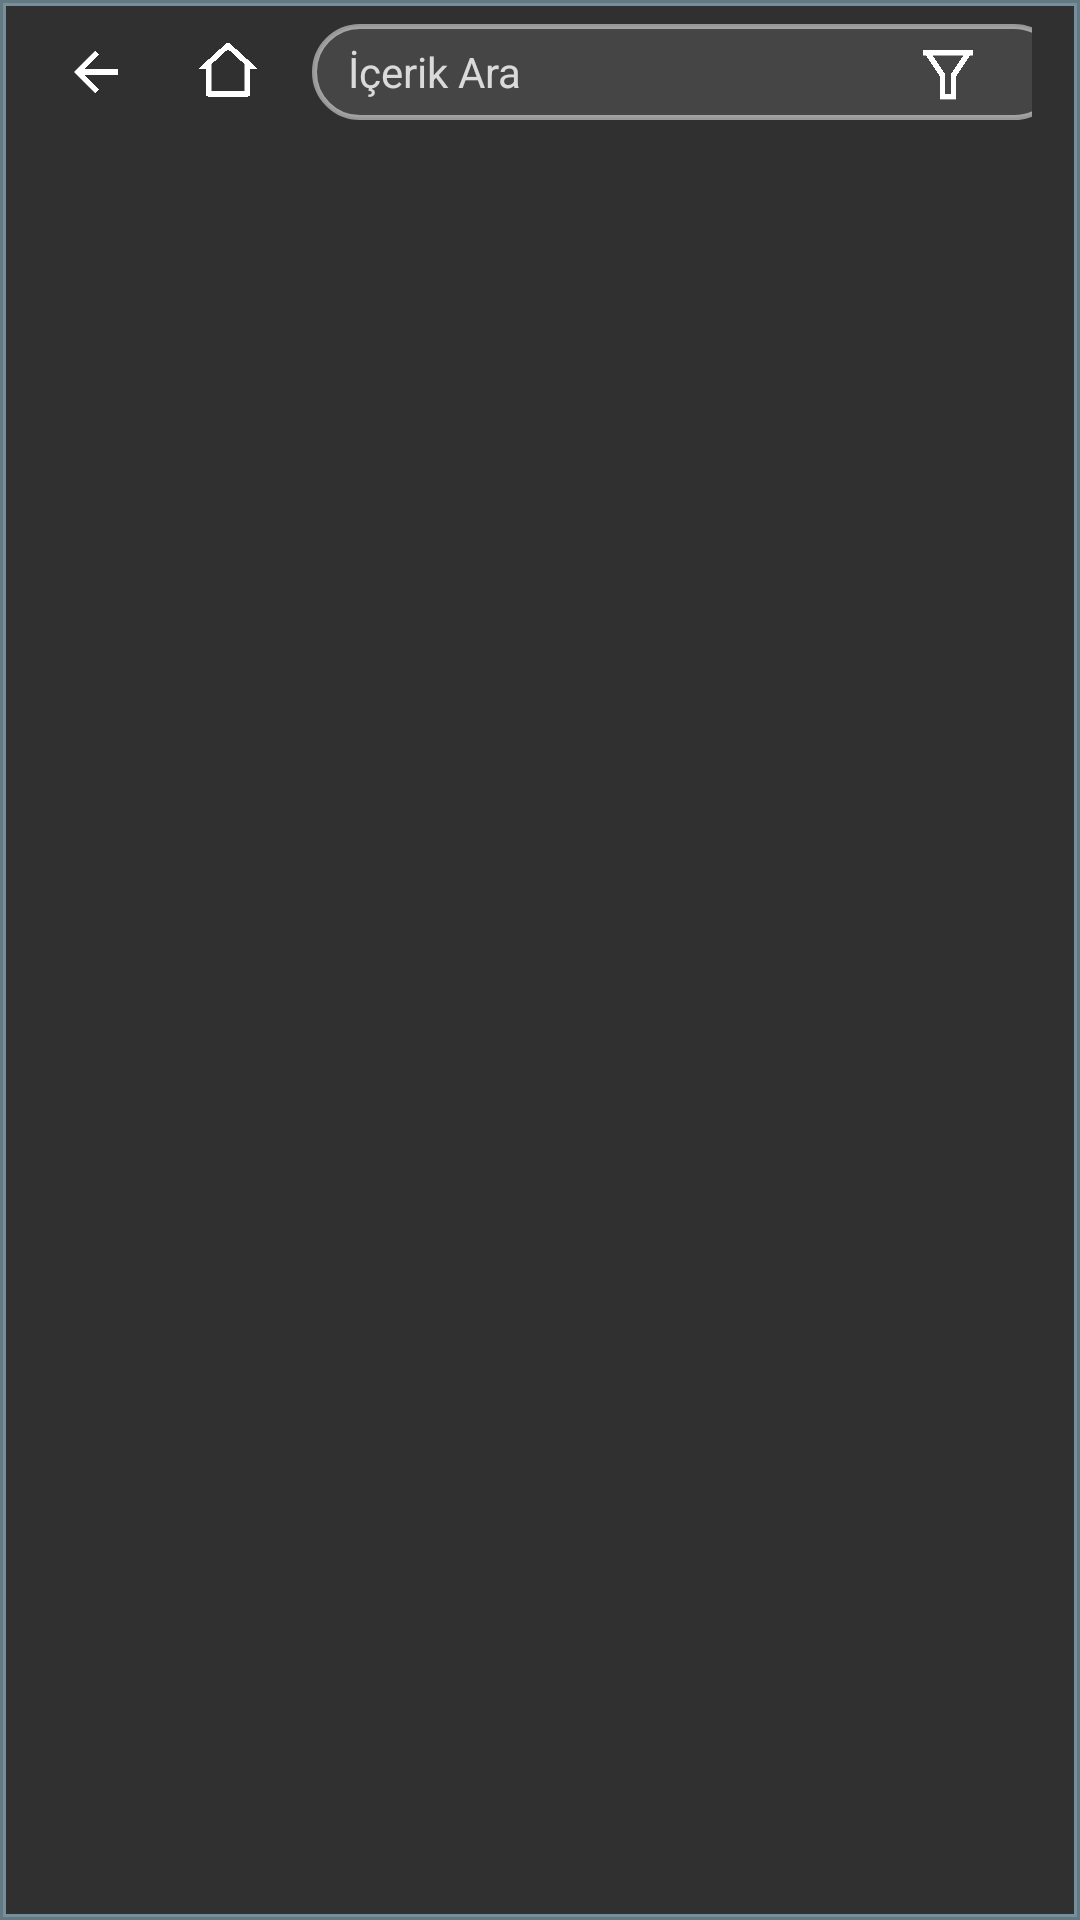

Where to tap for icons on this 1080 x 1920 app screen, as [x,y]:
Ana sayfaya git: [228,70]
Filtre: [948,72]
Geri dön: [96,72]
